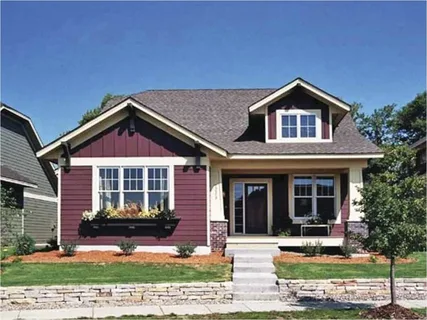private_hause: (59, 85, 362, 242)
